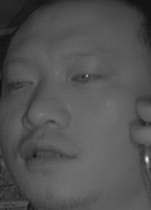eye: (69, 66, 103, 87), (5, 73, 35, 94)
mouth: (19, 134, 78, 172)
